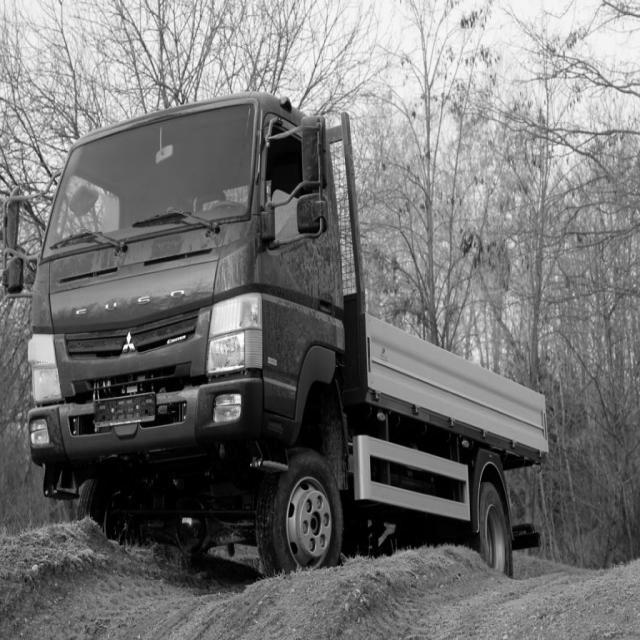truck: (5, 68, 379, 530)
